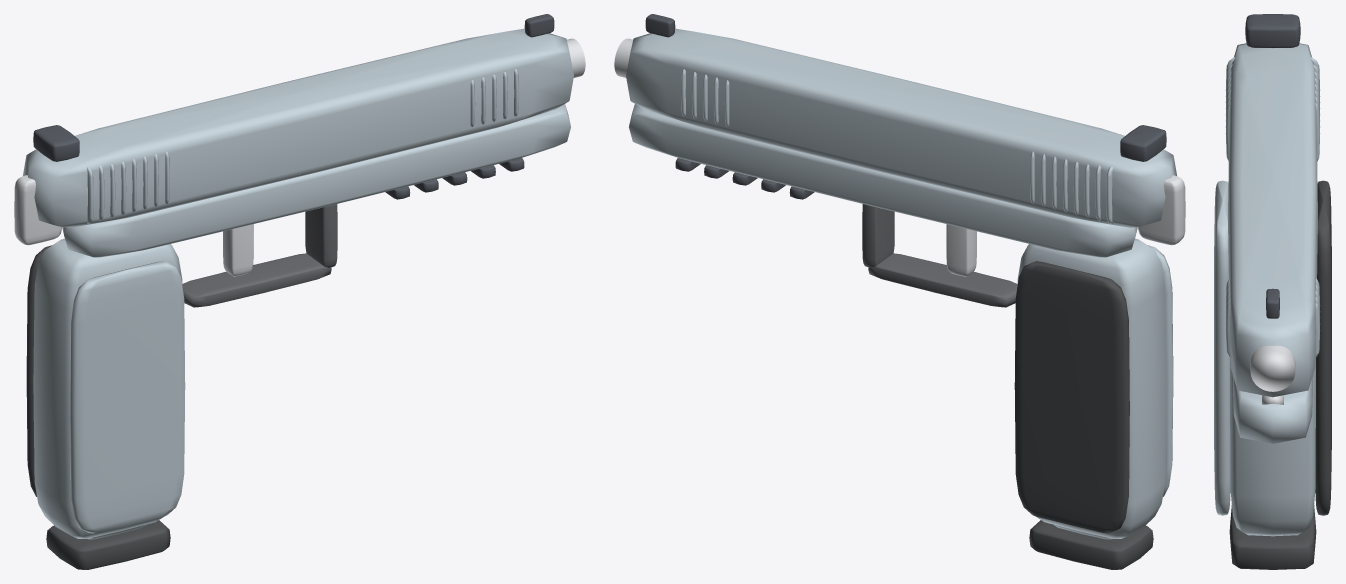
File: fort14tp-glass.glb
The picture shows the model from 3 angles, left to right: view 1: azimuth 30°, elevation 25°; view 2: azimuth 150°, elevation 25°; view 3: azimuth 270°, elevation 25°; orthographic projection. The views are drawn at different scales.
Visible parts, largest first — view 1: slide_body, grip_panel_R, frame_dustcover, grip_frame, trigger_guard_bot, mag_baseplate, hammer, trigger_guard_front, grip_panel_L, trigger, rear_sight; view 2: slide_body, grip_panel_L, frame_dustcover, grip_frame, trigger_guard_bot, mag_baseplate, hammer, trigger_guard_front, grip_panel_R, trigger, rear_sight; view 3: slide_body, grip_frame, grip_panel_L, grip_panel_R, frame_dustcover, mag_baseplate, rear_sight, barrel_122mm, slide_serr_f_4, front_sight, slide_serr_r_7, recoil_guide_rod.
Boxes of the visible parts, box(x1,y1,x2,y2) form: slide_body: box(23, 28, 573, 227); grip_panel_R: box(70, 261, 185, 533); frame_dustcover: box(62, 104, 570, 257); grip_frame: box(33, 238, 182, 538); trigger_guard_bot: box(182, 253, 331, 307); mag_baseplate: box(46, 520, 170, 569); hammer: box(14, 175, 61, 245); trigger_guard_front: box(305, 204, 337, 267); grip_panel_L: box(26, 245, 51, 496); trigger: box(223, 224, 253, 276); rear_sight: box(33, 125, 79, 161); slide_body: box(626, 28, 1176, 227); grip_panel_L: box(1014, 261, 1129, 533); frame_dustcover: box(629, 104, 1137, 257); grip_frame: box(1017, 238, 1166, 538); trigger_guard_bot: box(868, 253, 1017, 307); mag_baseplate: box(1029, 520, 1153, 569); hammer: box(1138, 175, 1185, 245); trigger_guard_front: box(862, 204, 894, 267); grip_panel_R: box(1148, 245, 1173, 496); trigger: box(946, 224, 976, 276); rear_sight: box(1120, 125, 1166, 161); slide_body: box(1228, 43, 1317, 397); grip_frame: box(1230, 358, 1315, 536); grip_panel_L: box(1315, 180, 1331, 515); grip_panel_R: box(1214, 180, 1230, 515); frame_dustcover: box(1232, 375, 1313, 443); mag_baseplate: box(1229, 505, 1316, 569); rear_sight: box(1245, 14, 1300, 47); barrel_122mm: box(1250, 345, 1295, 391); slide_serr_f_4: box(1225, 303, 1320, 357); front_sight: box(1266, 288, 1279, 318); slide_serr_r_7: box(1225, 103, 1320, 161); recoil_guide_rod: box(1262, 395, 1283, 404).
Bounding box in the file's own units: 0.215 × 0.158 × 0.034.
